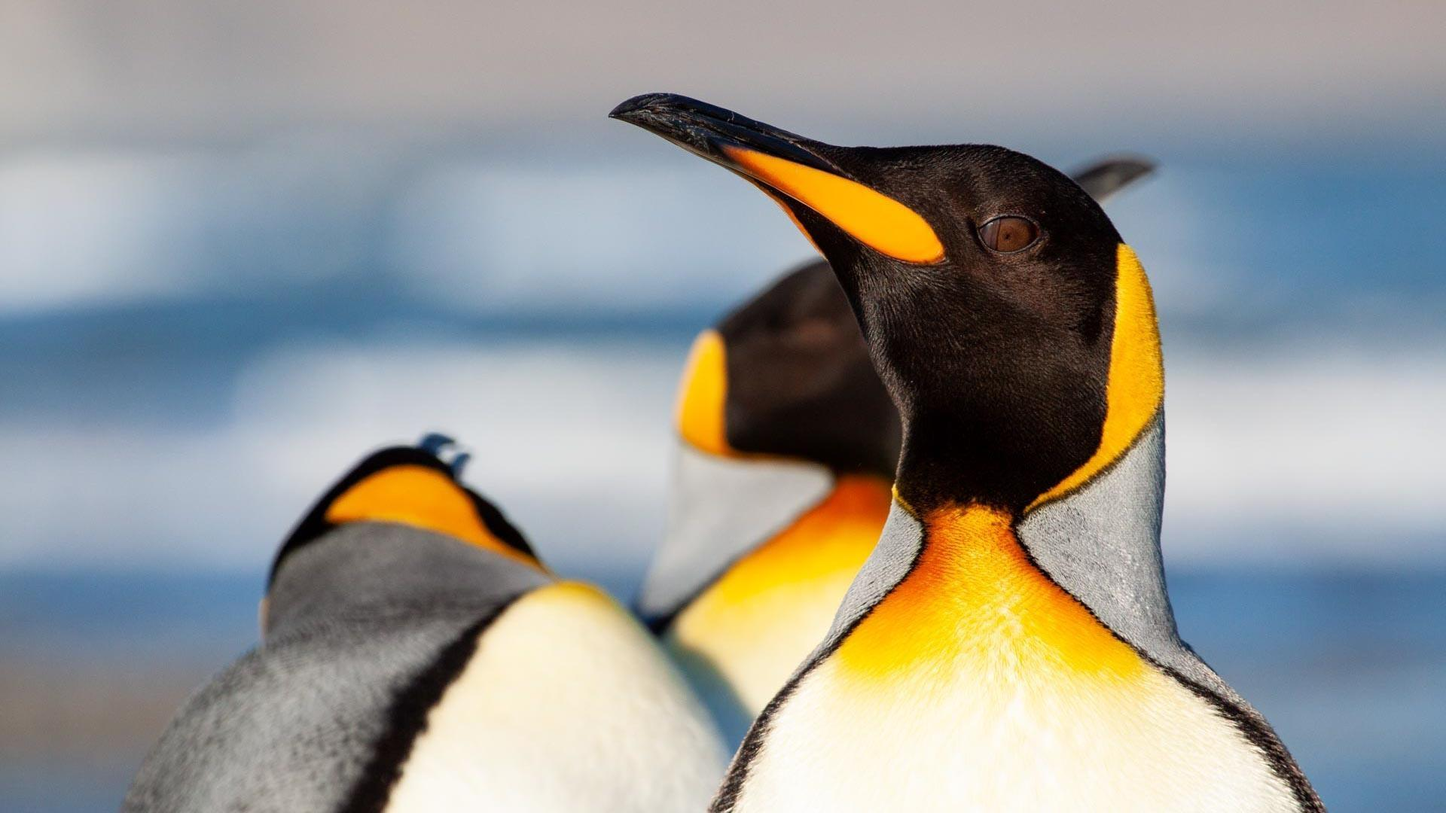Penguin: (608, 92, 1322, 811), (121, 433, 728, 811), (633, 260, 900, 755), (1073, 157, 1153, 202)
